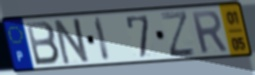7: (124, 13, 151, 59)
B: (24, 19, 62, 67)
I: (92, 15, 112, 63)
N: (53, 16, 92, 67)
R: (189, 9, 230, 55)
Z: (158, 9, 197, 59)
